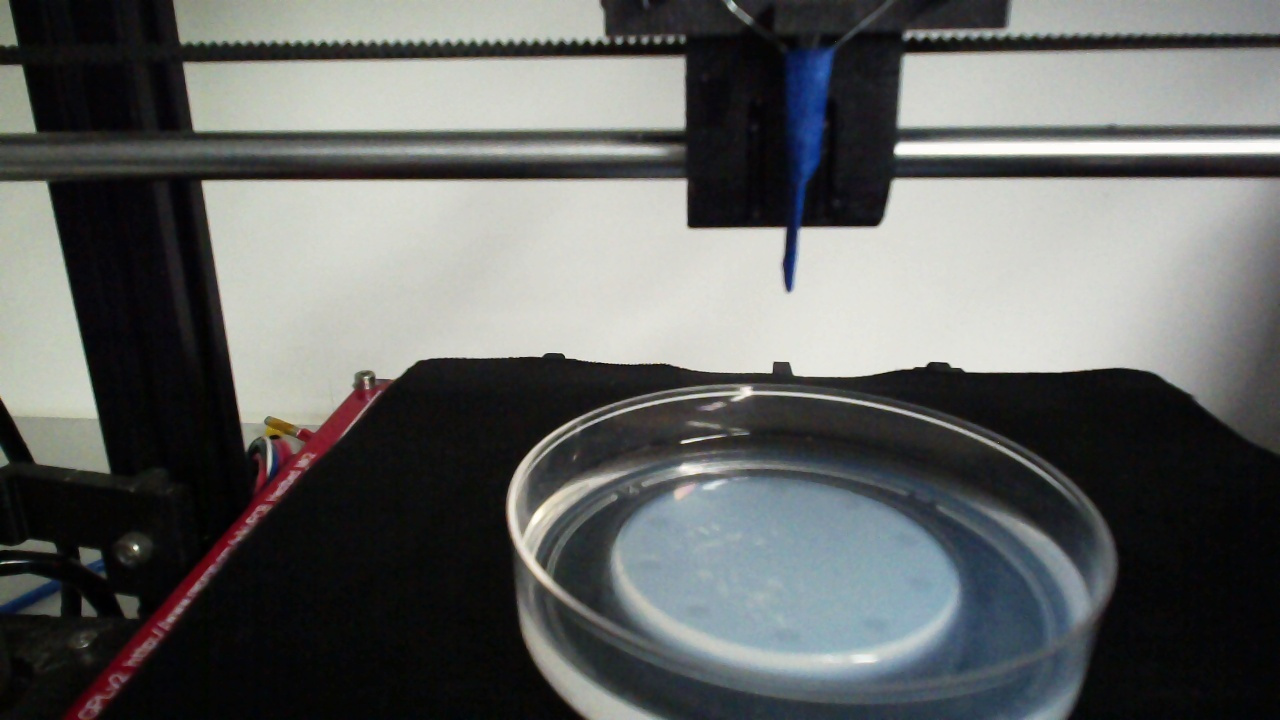groove: (773, 627, 802, 646), (895, 529, 920, 550), (863, 615, 889, 635), (909, 576, 935, 595), (637, 556, 664, 574), (838, 493, 863, 512), (684, 602, 710, 619), (645, 514, 672, 529), (768, 480, 791, 495)
needle: (783, 53, 833, 292)
